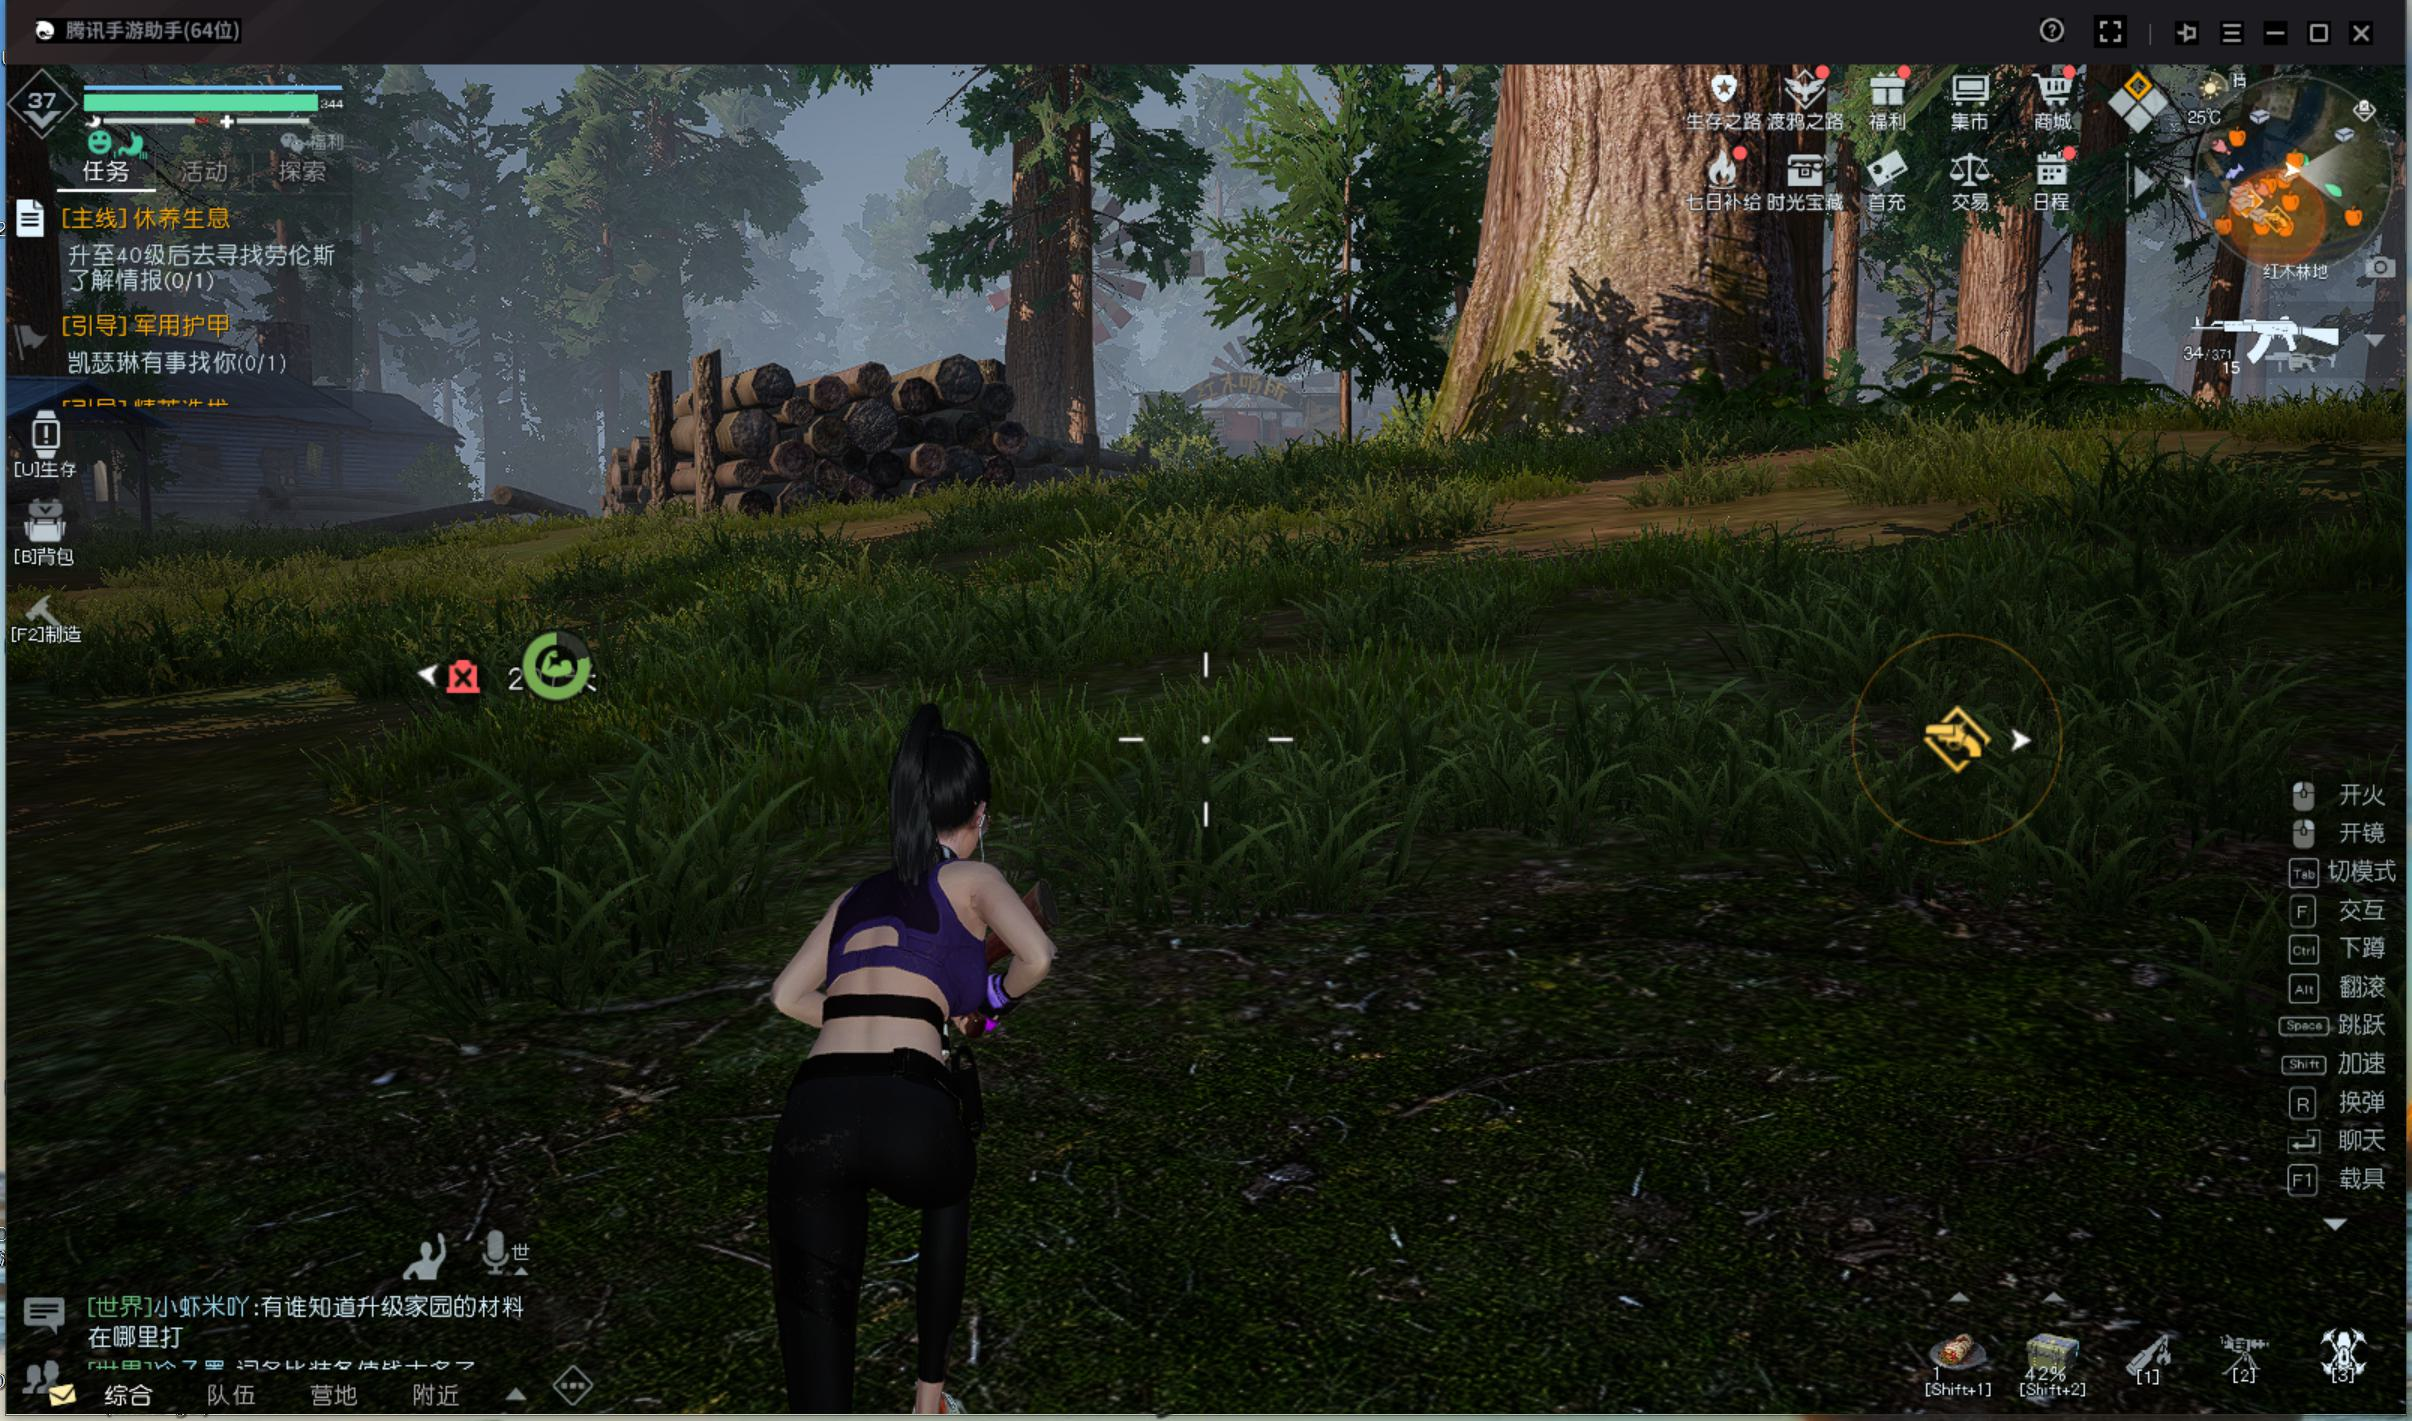tree: (1055, 130, 1103, 509), (2048, 239, 2138, 438), (1950, 228, 2030, 426), (2180, 269, 2245, 458)
